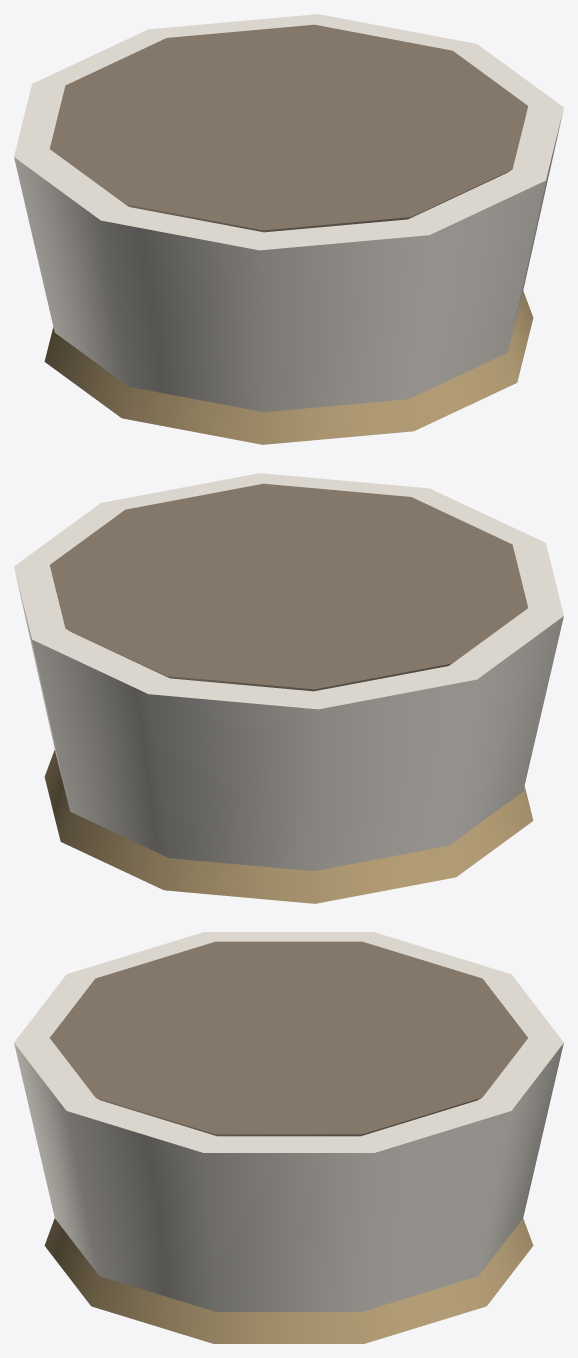
File: SV_MP_SKU_07_v01_lod2.glb
The picture shows the model from 3 angles, top to bottom: view 1: azimuth 30°, elevation 25°; view 2: azimuth 150°, elevation 25°; view 3: azimuth 270°, elevation 25°; orthographic projection. The views are drawn at different scales.
Parts seen in each view (by area): view 1: mproto_SV_MP_SKU_07_v01; view 2: mproto_SV_MP_SKU_07_v01; view 3: mproto_SV_MP_SKU_07_v01.
Part boxes in pixels (left/top/right/bottom): mproto_SV_MP_SKU_07_v01: left=14, top=14, right=563, bottom=444; mproto_SV_MP_SKU_07_v01: left=14, top=473, right=563, bottom=903; mproto_SV_MP_SKU_07_v01: left=14, top=932, right=563, bottom=1343.
Size of the model in its own units: 0.0514 by 0.0225 by 0.054.
